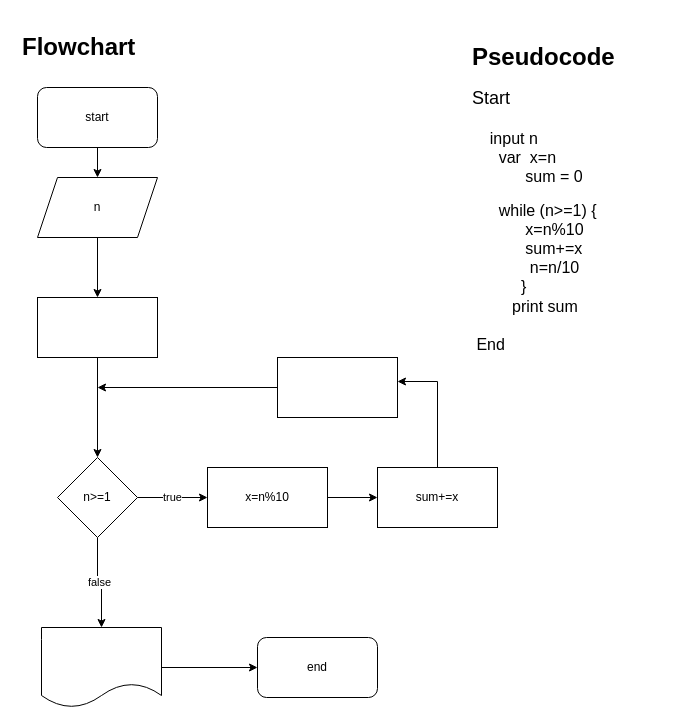
Some shapes in this 674 by 725 pixel diagram are drawn without their labels. The shapes that lost their labels are listed below. From the top down, each one's centre as x and y in pixels, then its label:
point 97,327: x=n sum=0
point 337,387: n/=10
point 101,667: sum
